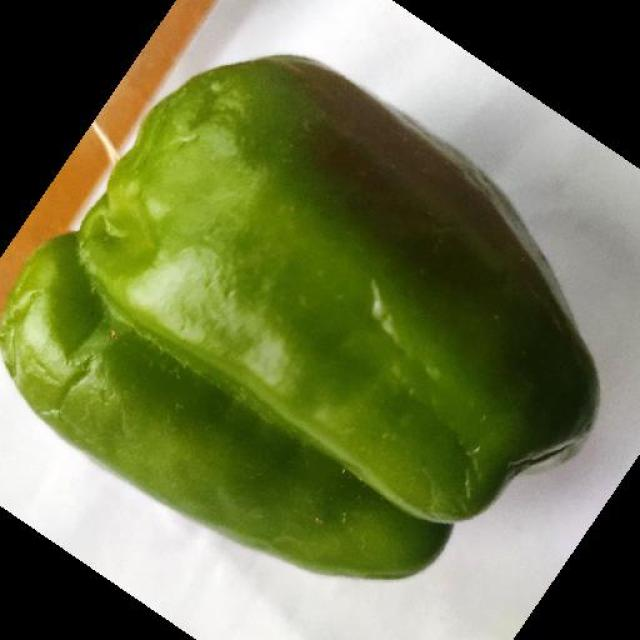Stale_Capsicum: (21, 218, 575, 492)
